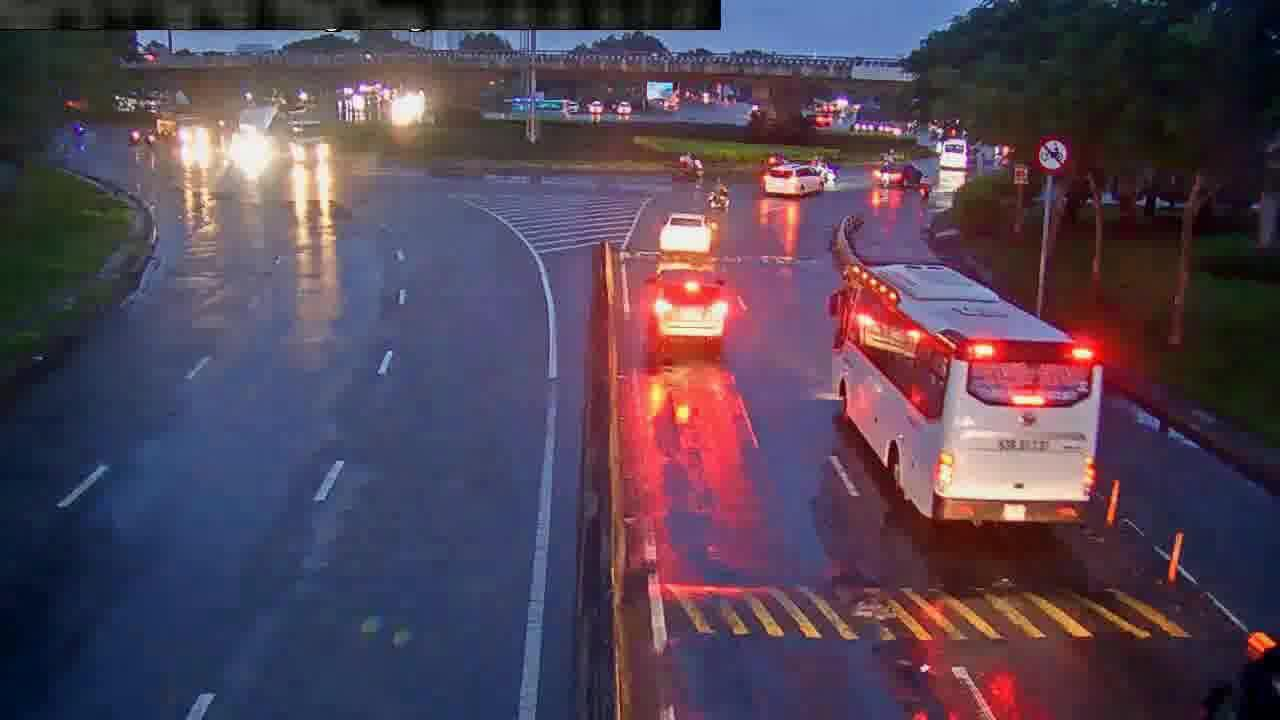container: (821, 265, 1103, 530), (645, 266, 728, 350), (656, 211, 720, 253), (759, 163, 826, 194), (875, 159, 923, 191)
motorbike: (707, 175, 732, 216)
